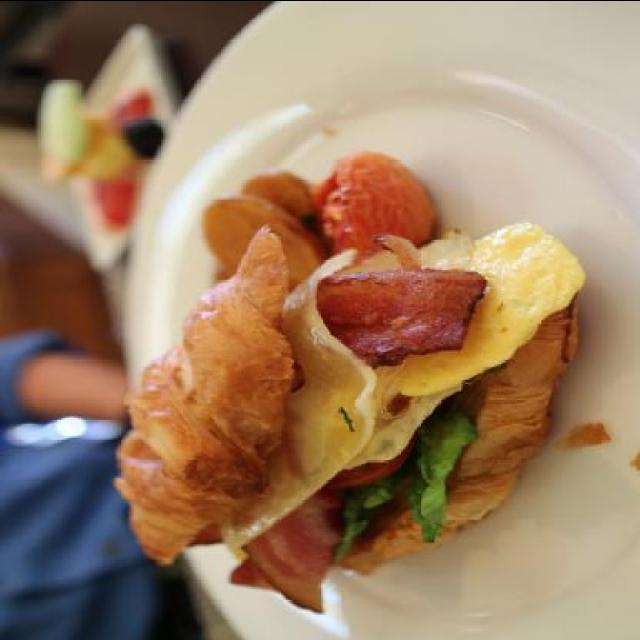Sandwich: (111, 220, 583, 620)
